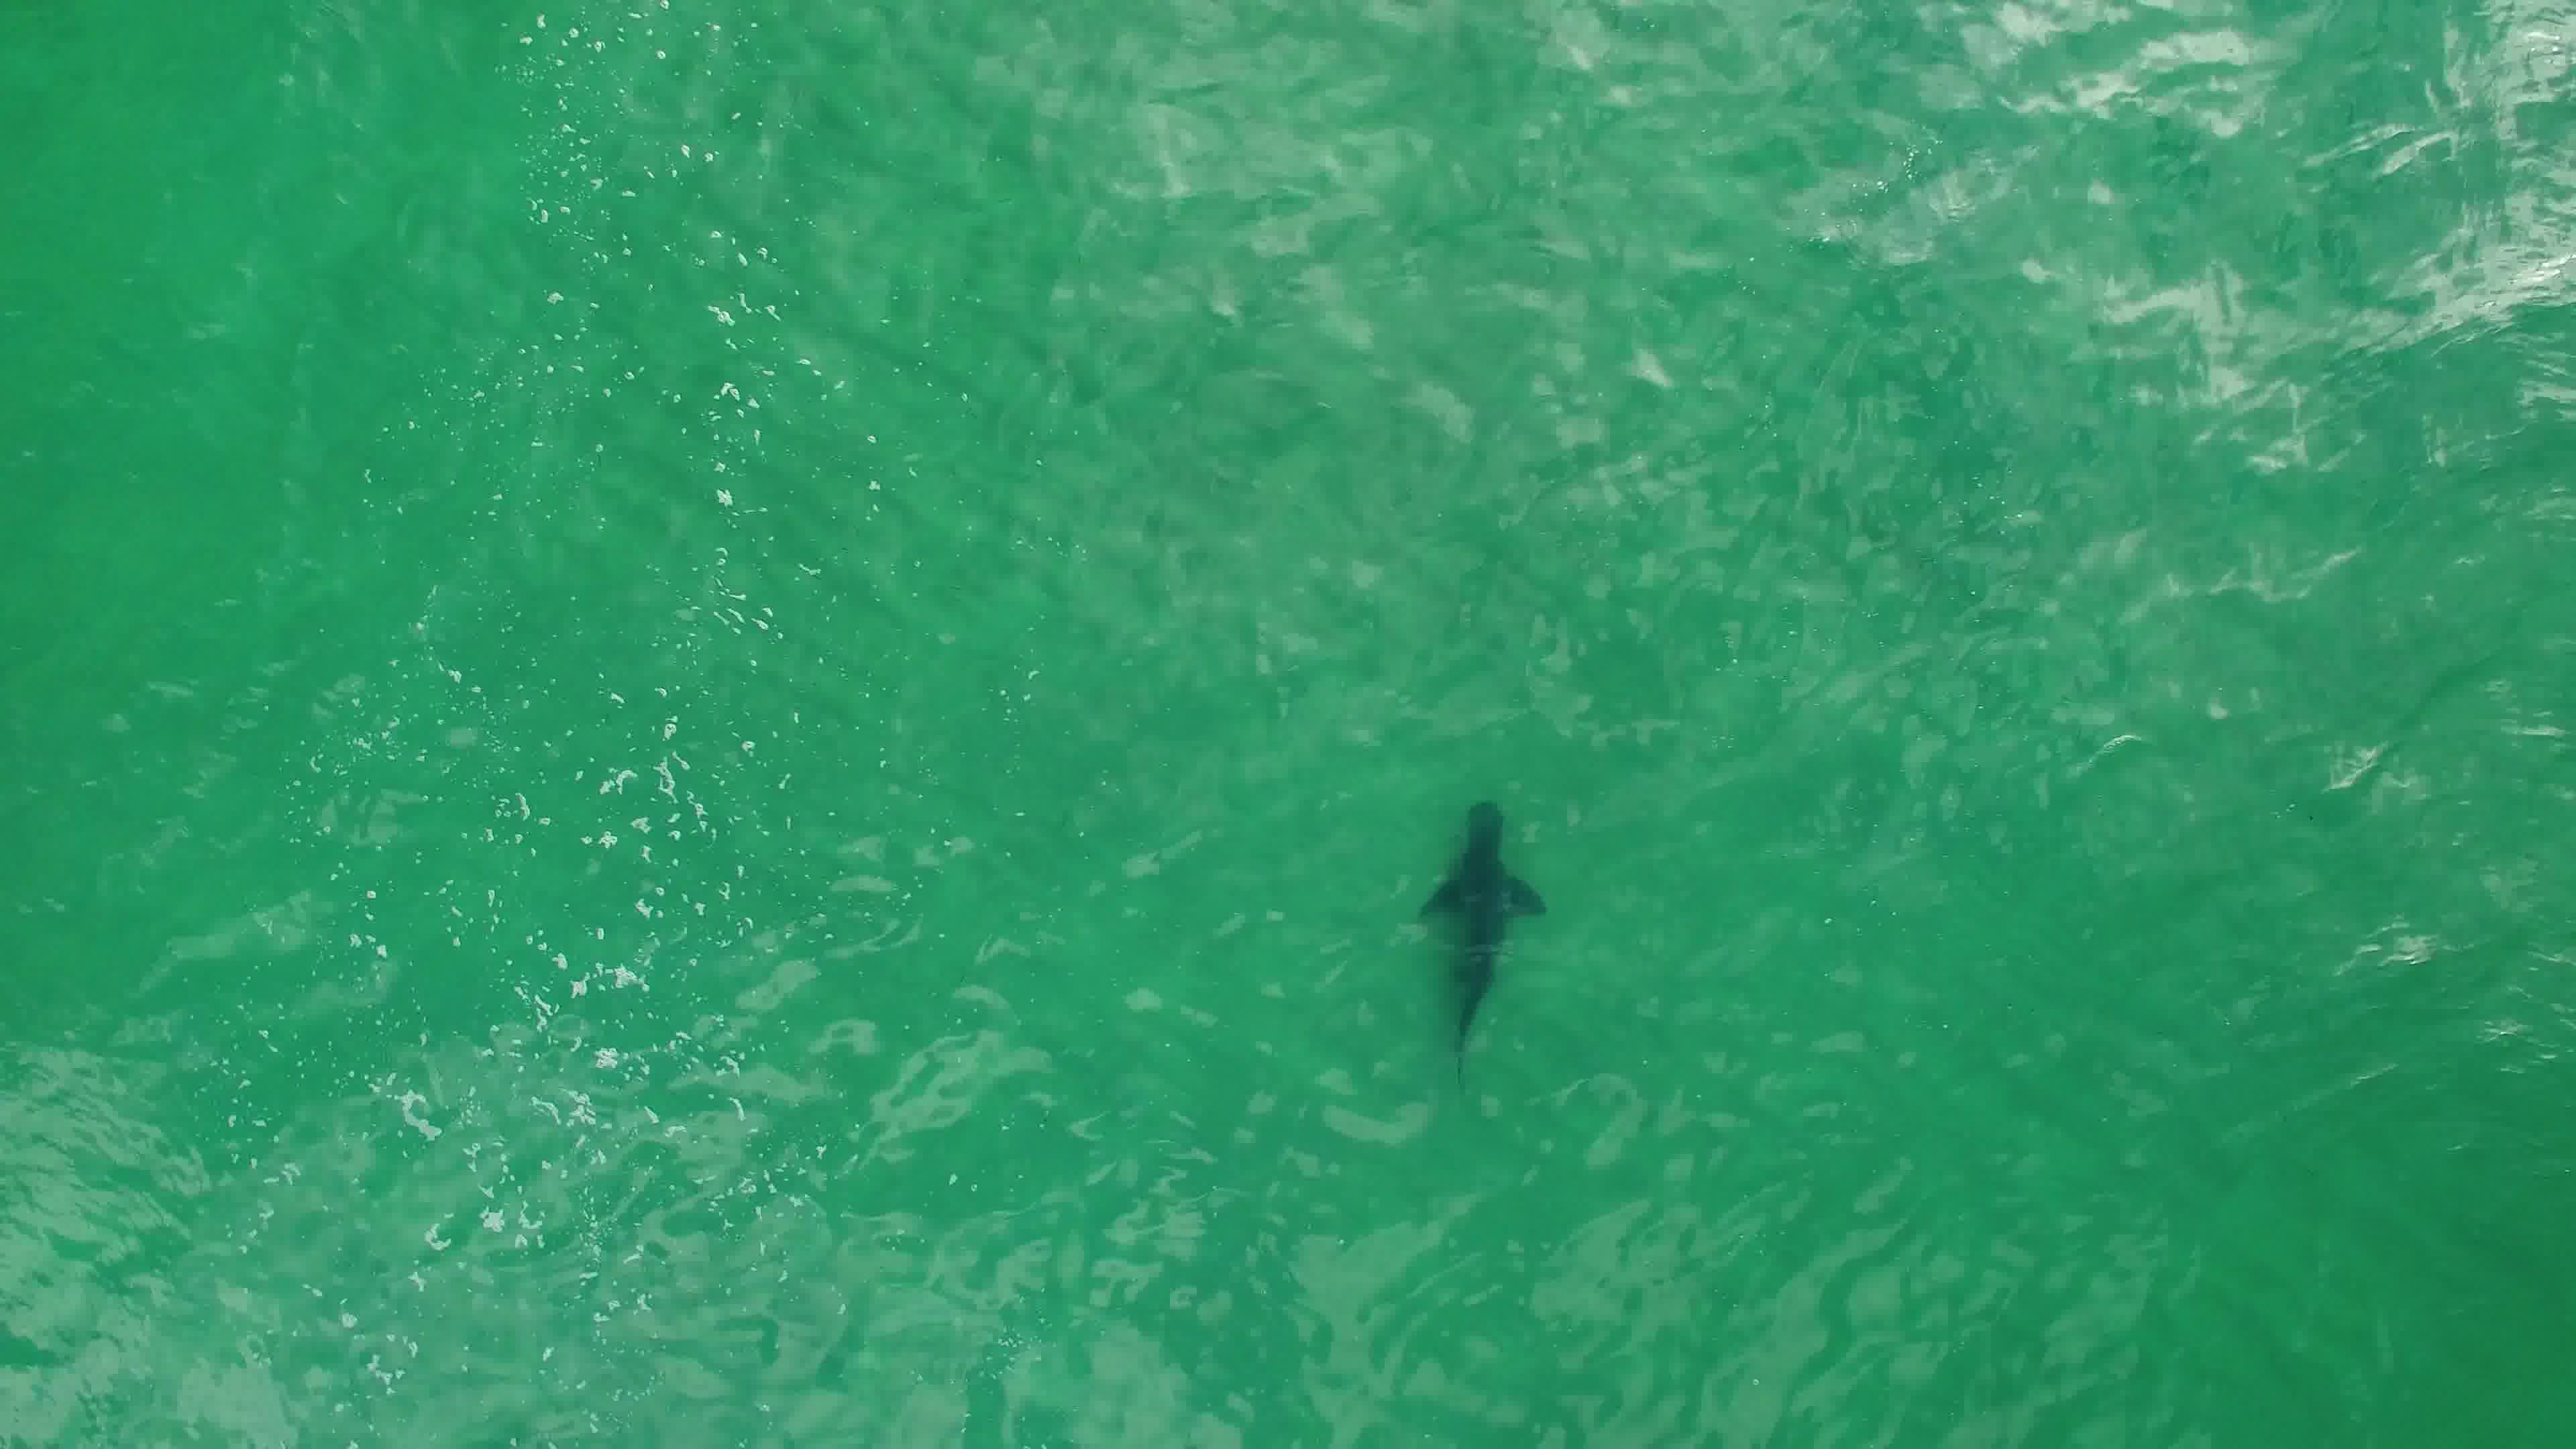shark: (1405, 791, 1557, 1093)
